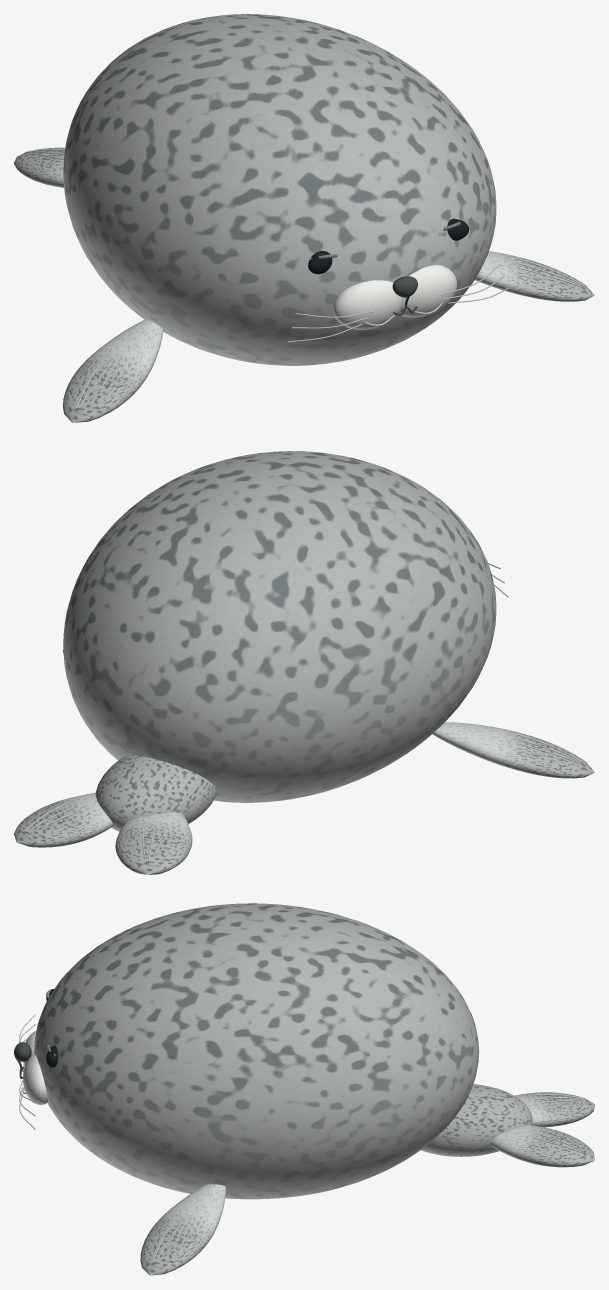
Rendered from FocaWatona.fbx.
3 views of the same model, one above another, from view 1: azimuth 30°, elevation 25°; view 2: azimuth 150°, elevation 25°; view 3: azimuth 270°, elevation 25° (orthographic). The views are drawn at different scales.
Visible parts, largest first — view 1: PlumpSealBody, LeftFlipper, RightFlipper, MuzzleLeft, MuzzleRight, LeftTailLobe; view 2: PlumpSealBody, TailPeduncle, LeftFlipper, LeftTailLobe, RightTailLobe; view 3: PlumpSealBody, RightFlipper, TailPeduncle, RightTailLobe, LeftTailLobe, MuzzleRight.
Boxes of the visible parts, left/top/right/bottom form: PlumpSealBody: left=63, top=14, right=496, bottom=365; LeftFlipper: left=63, top=319, right=163, bottom=422; RightFlipper: left=475, top=251, right=594, bottom=301; MuzzleLeft: left=333, top=280, right=401, bottom=329; MuzzleRight: left=399, top=265, right=456, bottom=317; LeftTailLobe: left=14, top=147, right=64, bottom=187; PlumpSealBody: left=63, top=451, right=496, bottom=802; TailPeduncle: left=95, top=755, right=217, bottom=831; LeftFlipper: left=432, top=722, right=594, bottom=778; LeftTailLobe: left=115, top=812, right=192, bottom=874; RightTailLobe: left=14, top=792, right=112, bottom=847; PlumpSealBody: left=34, top=903, right=479, bottom=1199; RightFlipper: left=140, top=1184, right=225, bottom=1275; TailPeduncle: left=421, top=1084, right=532, bottom=1156; RightTailLobe: left=490, top=1125, right=594, bottom=1167; LeftTailLobe: left=514, top=1092, right=594, bottom=1127; MuzzleRight: left=23, top=1053, right=47, bottom=1104.
Bounding box in the file's own units: 1.2 × 0.5936 × 1.3.
Materials: 6 (1 with a texture image).
